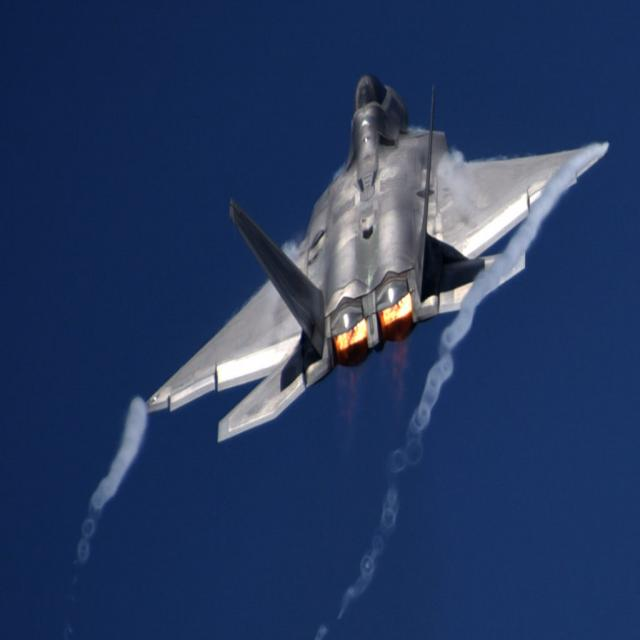F22: (143, 66, 609, 450)
